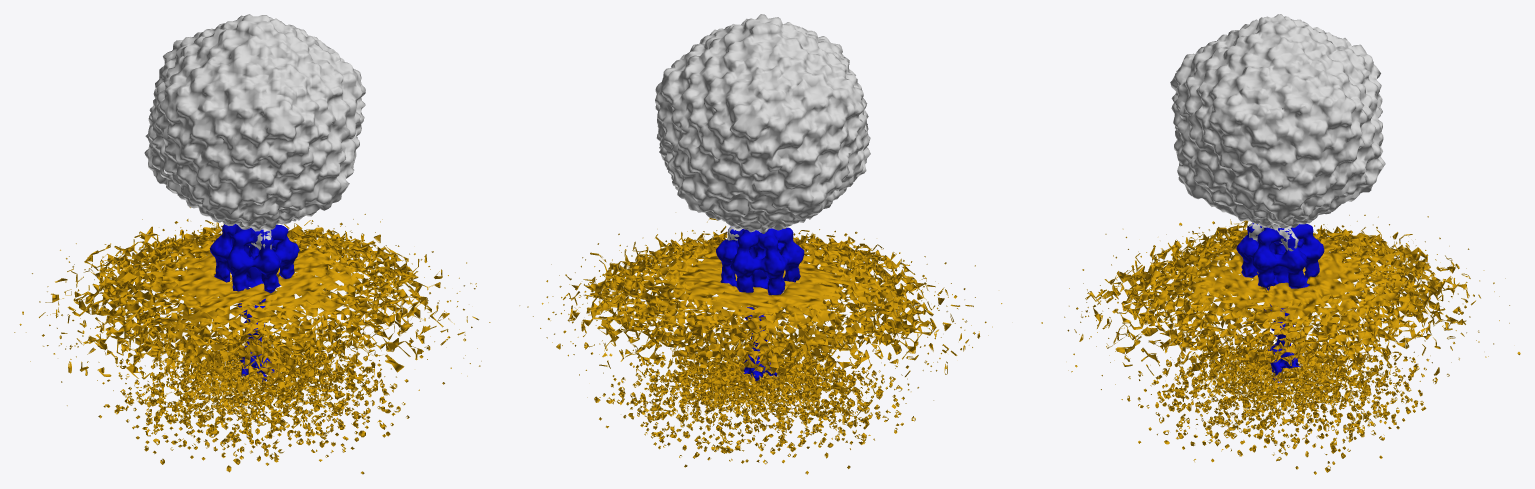
Rendered from viruscoloreado.gltf.
The picture shows the model from 3 angles, left to right: view 1: azimuth 30°, elevation 25°; view 2: azimuth 150°, elevation 25°; view 3: azimuth 270°, elevation 25°; orthographic projection.
Visible parts, largest first — view 1: vmd_mol0_rep0, vmd_mol3_rep0, vmd_mol4_rep0, vmd_mol1_rep0; view 2: vmd_mol0_rep0, vmd_mol3_rep0, vmd_mol4_rep0, vmd_mol1_rep0; view 3: vmd_mol0_rep0, vmd_mol3_rep0, vmd_mol4_rep0, vmd_mol1_rep0.
Boxes of the visible parts, x1,y1,x2,y2 form: vmd_mol0_rep0: [144, 14, 365, 250]; vmd_mol3_rep0: [14, 207, 490, 428]; vmd_mol4_rep0: [98, 318, 409, 474]; vmd_mol1_rep0: [210, 224, 299, 381]; vmd_mol0_rep0: [655, 14, 870, 240]; vmd_mol3_rep0: [519, 218, 1002, 423]; vmd_mol4_rep0: [594, 332, 915, 474]; vmd_mol1_rep0: [716, 226, 804, 380]; vmd_mol0_rep0: [1170, 14, 1385, 251]; vmd_mol3_rep0: [1041, 214, 1520, 427]; vmd_mol4_rep0: [1127, 314, 1449, 474]; vmd_mol1_rep0: [1236, 223, 1324, 382].
Size of the model in its own units: 2.78 by 2.56 by 2.74.
